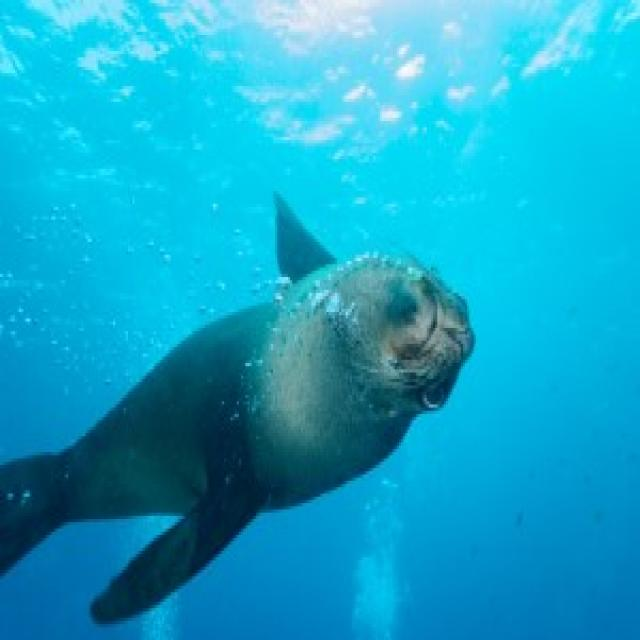Seal: (0, 222, 515, 600)
